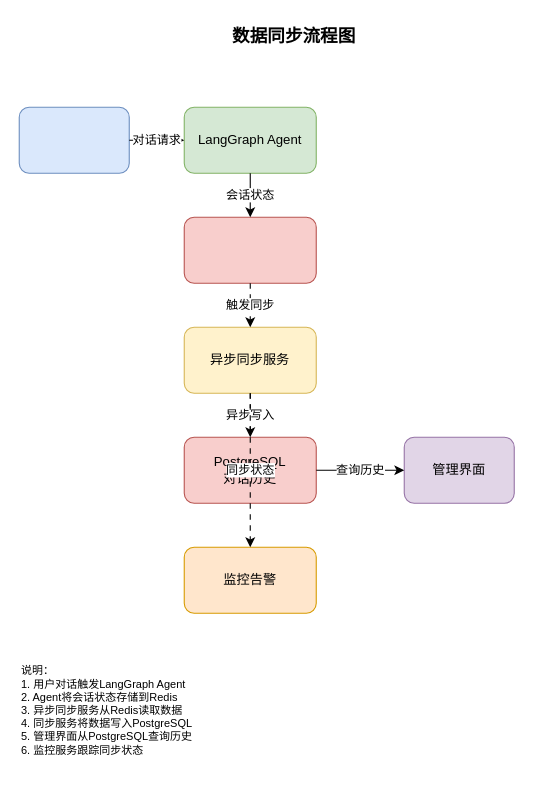
Image size: 534x807. Some labels were removed from this diagram. The shapes that lost their labels are listed below. From the top down, each one's centre as x and y in pixels, then its label:
At point 73,139: "用户对话".
At point 249,249: "Redis 会话状态".
